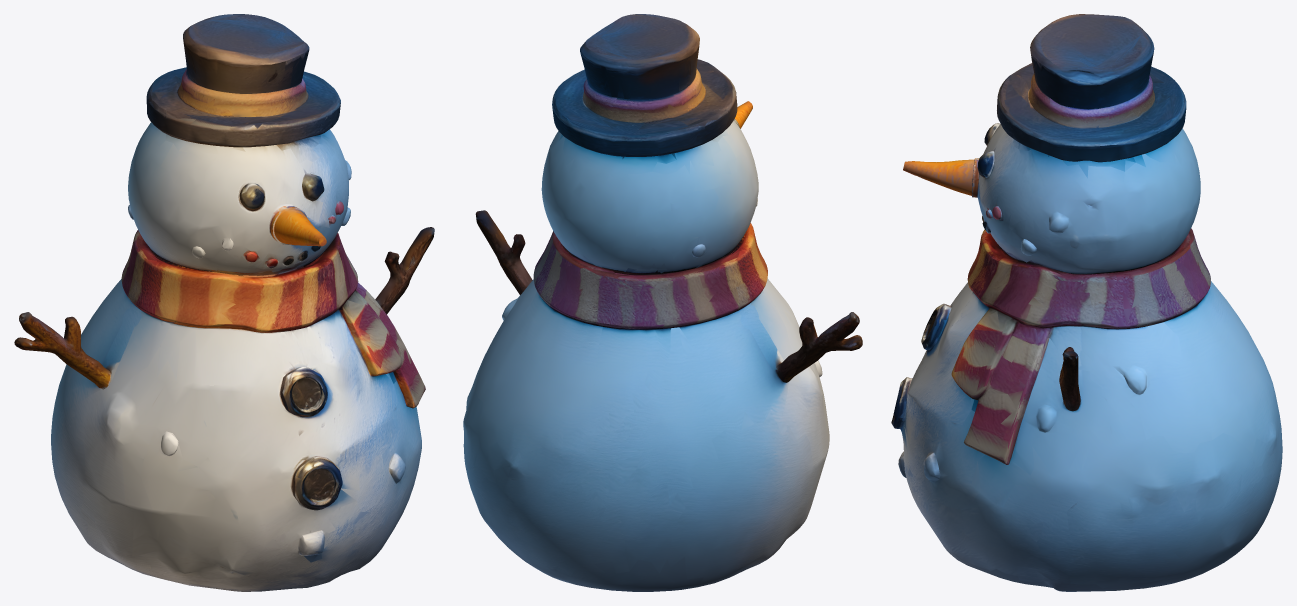
File: snowman_artic.glb
3 renders of one model, left to right at view 1: azimuth 30°, elevation 25°; view 2: azimuth 150°, elevation 25°; view 3: azimuth 270°, elevation 25°, orthographic.
Parts seen in each view (by area): view 1: mesh_0; view 2: mesh_0; view 3: mesh_0.
Boxes of the visible parts, bbox=[...] form: mesh_0: bbox=[14, 14, 434, 591]; mesh_0: bbox=[463, 14, 862, 591]; mesh_0: bbox=[891, 14, 1282, 591].
Size of the model in its own units: 0.8747 by 1.03 by 0.731.
1 material, 1 textured.
